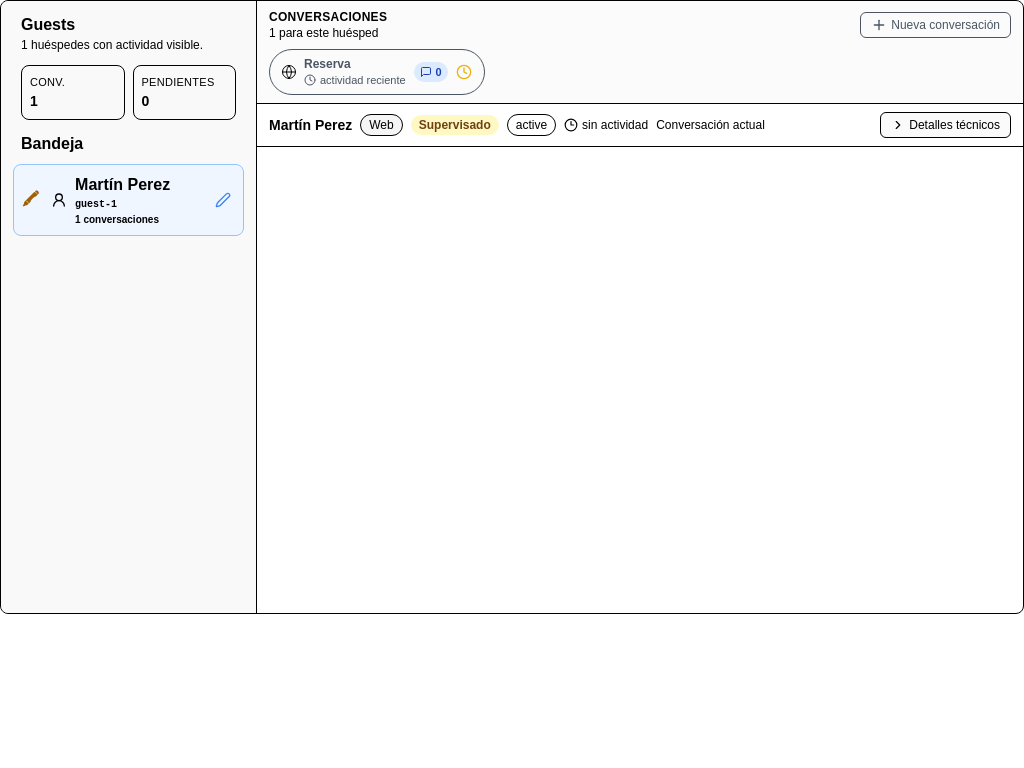
it: ChannelInbox compact operational UX › renderiza header compacto y permite expandir detalles técnicos y snapshot
This screenshot has width=1024, height=768.
Expected: the text "Web" is shown, [360,114,403,136]
Expected: the text "Supervisado" is shown, [411,115,499,135]
Click the button "Detalles técnicos" at (946, 125), box [880,112,1011,138]
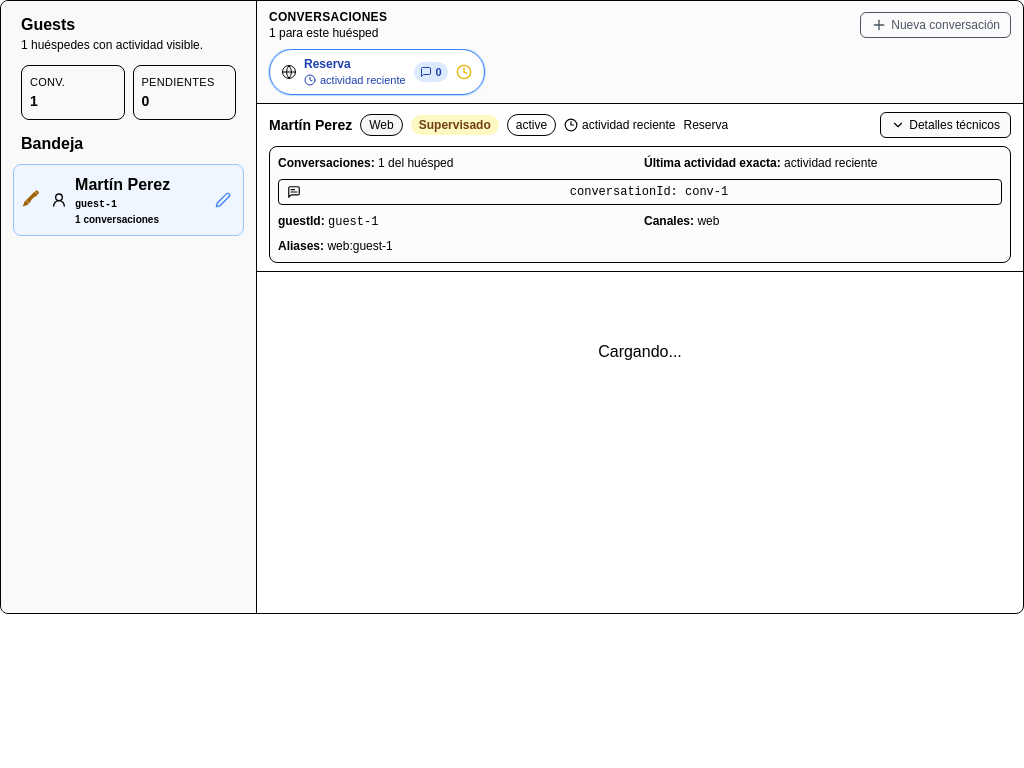
Expected: the button "Detalles técnicos" is expanded, [880,112,1011,138]
Expected: the text "conversationId: conv-1" is shown, [570,185,728,199]
Click the button "conversationId: conv-1" at (640, 192), box [278,179,1002,205]
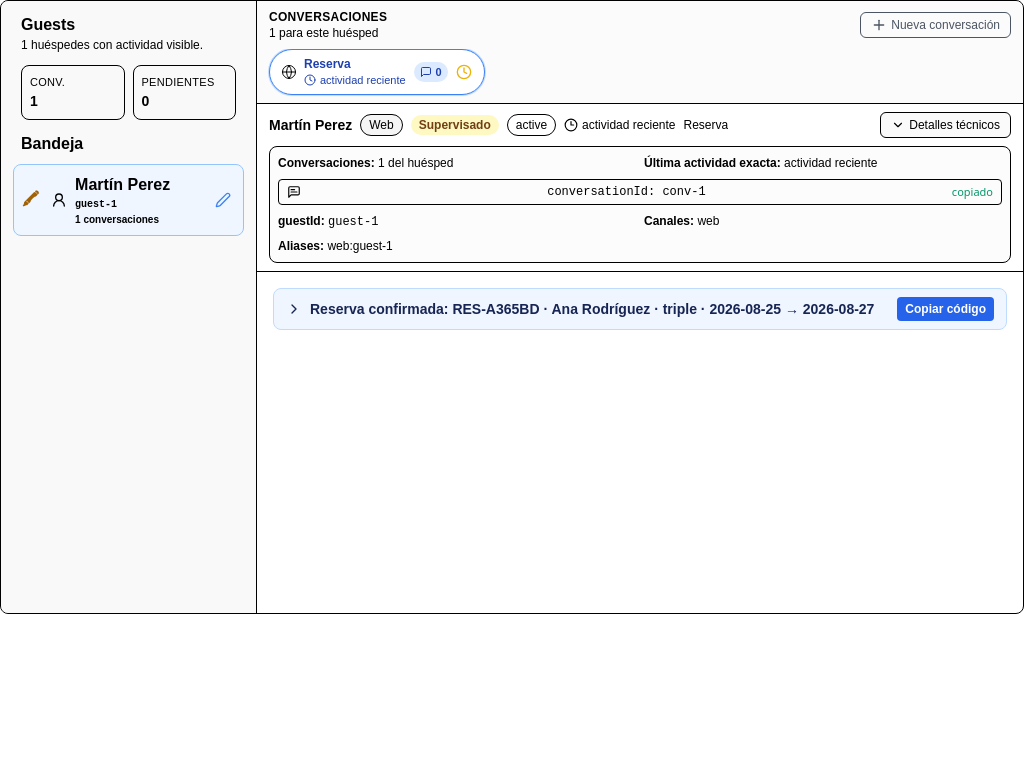
Expected: the text "Titular:" is not shown
Expected: the text "Ana Rodríguez" is shown, [552,301,650,317]
Click the button "Reserva confirmada: RES-A365BD" at (588, 309), box [286,299,889,319]
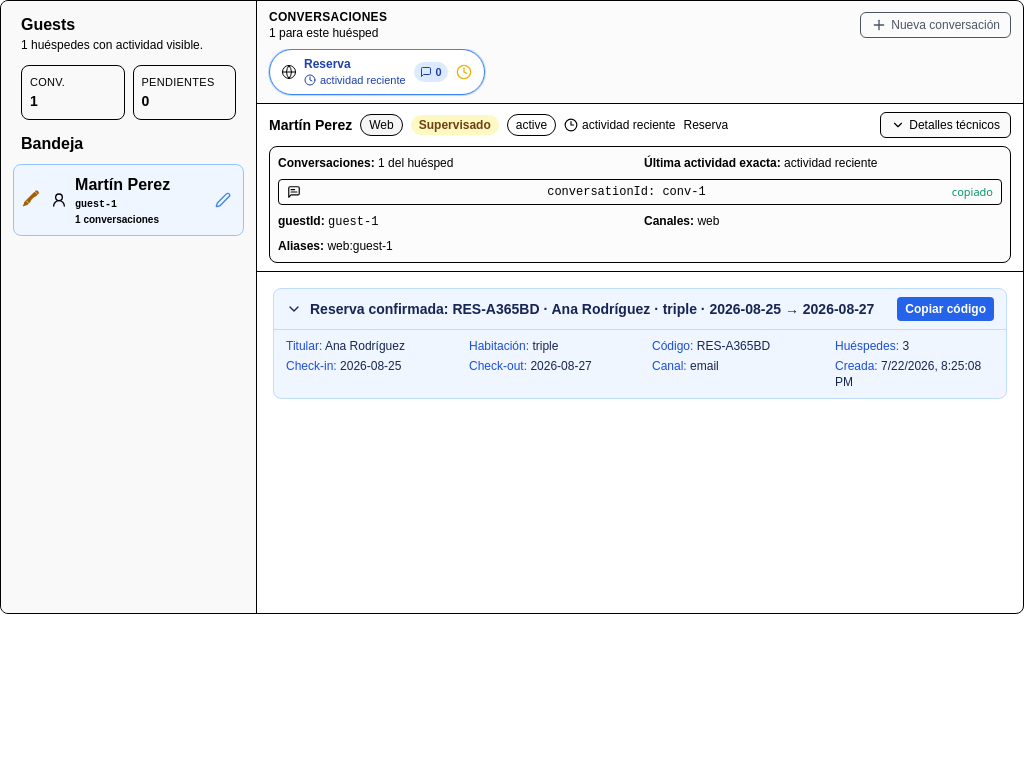
Expected: the button "Reserva confirmada: RES-A365BD" is expanded
Expected: the text "Titular:" is shown, [286,339,322,353]
Expected: the text "Ana Rodríguez" is shown, [325,339,405,353]
Click the button "Reserva confirmada: RES-A365BD" at (588, 309), box [286,299,889,319]
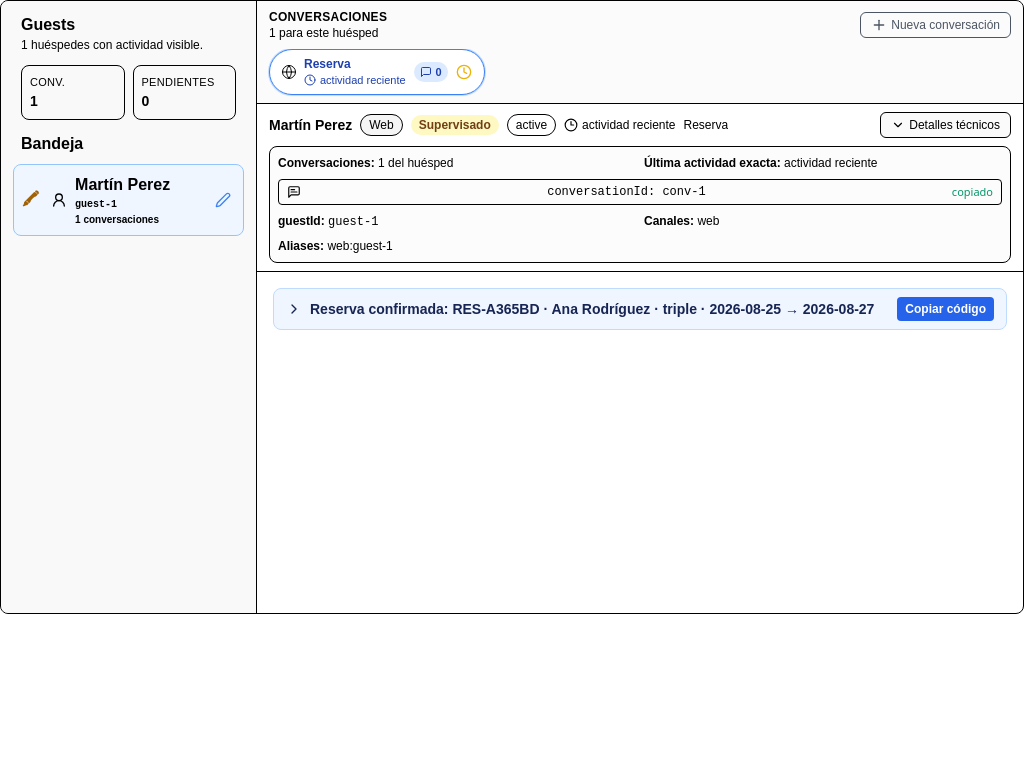
Expected: the button "Reserva confirmada: RES-A365BD" is collapsed, [286,299,889,319]
Expected: the text "Titular:" is gone
